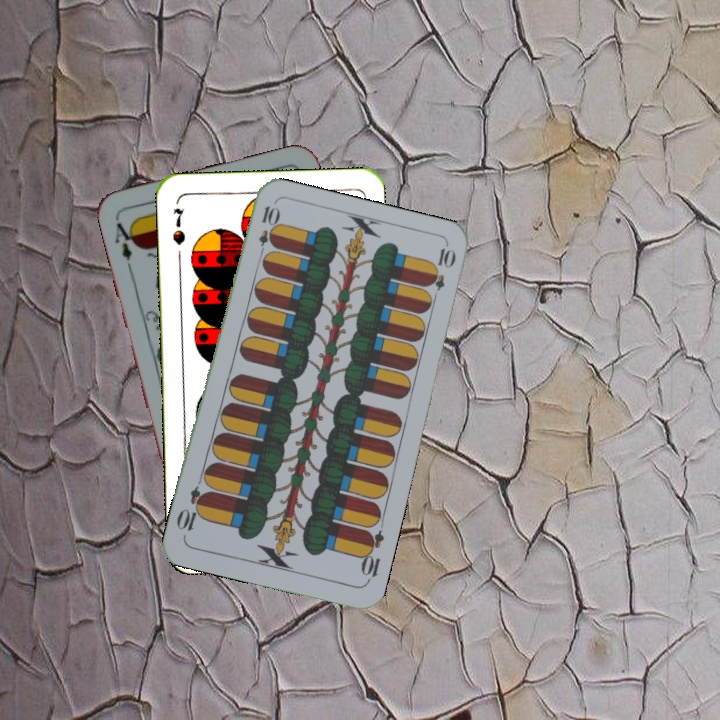E10: (357, 526, 387, 585), (254, 202, 279, 261)
EA: (110, 214, 140, 263)
S7: (168, 203, 188, 247)
